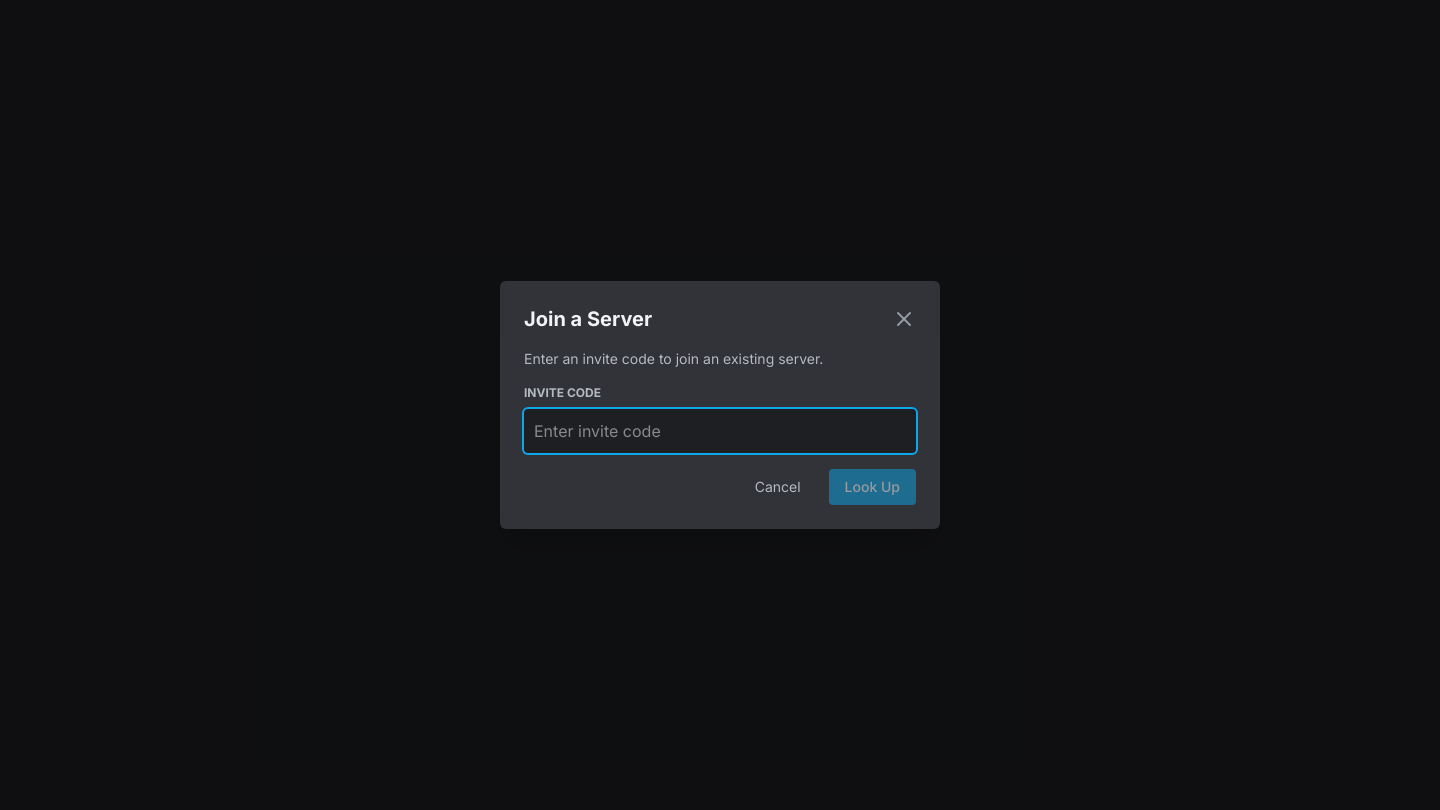
Scenario: JoinServerModal › shows singular "member" for memberCount === 1
Type "SOLO" into the field with placeholder "Enter invite code". click: coordinates (720, 431)
box: left=524, top=409, right=916, bottom=453
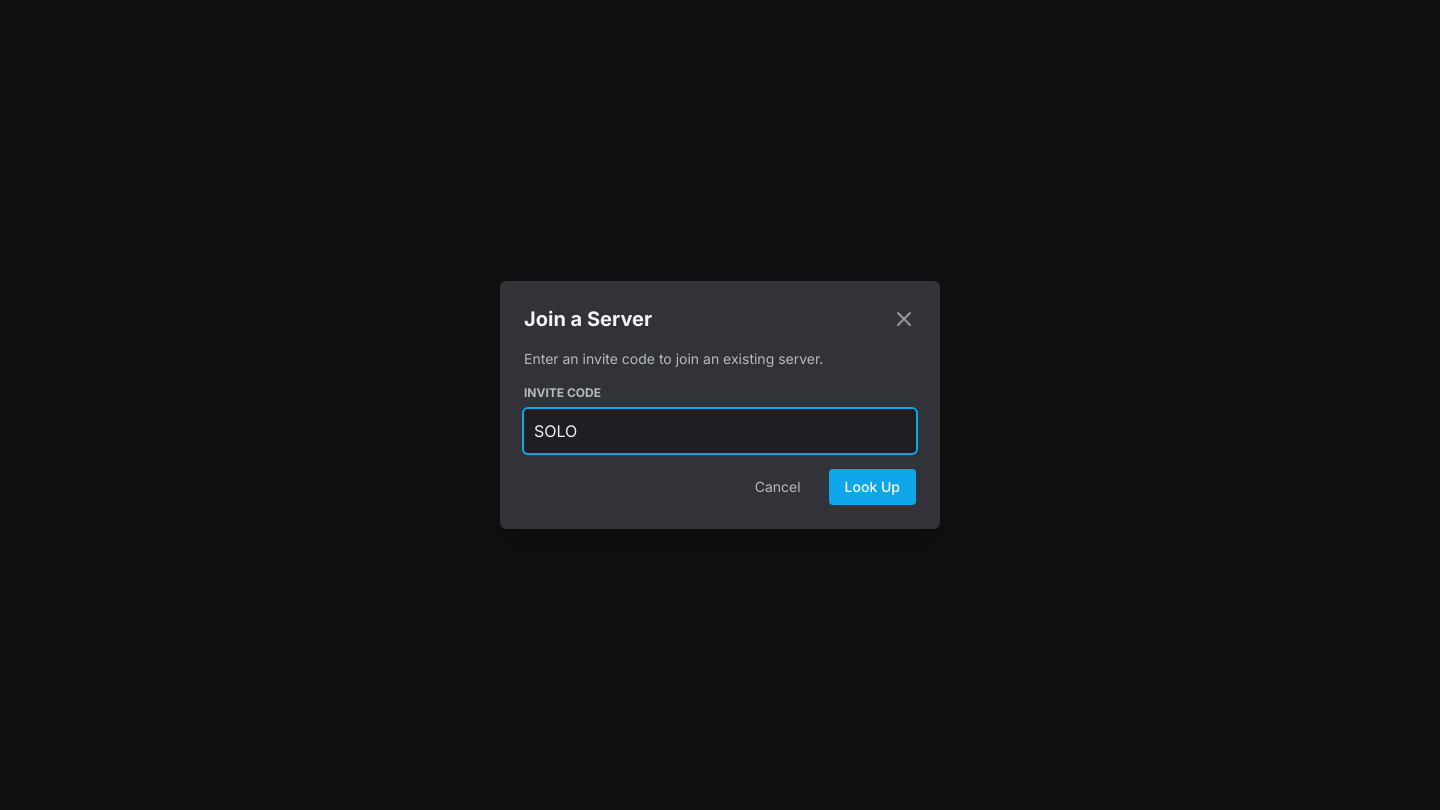
Click the button "Look Up". click: coordinates (872, 487)
box: left=829, top=469, right=916, bottom=505
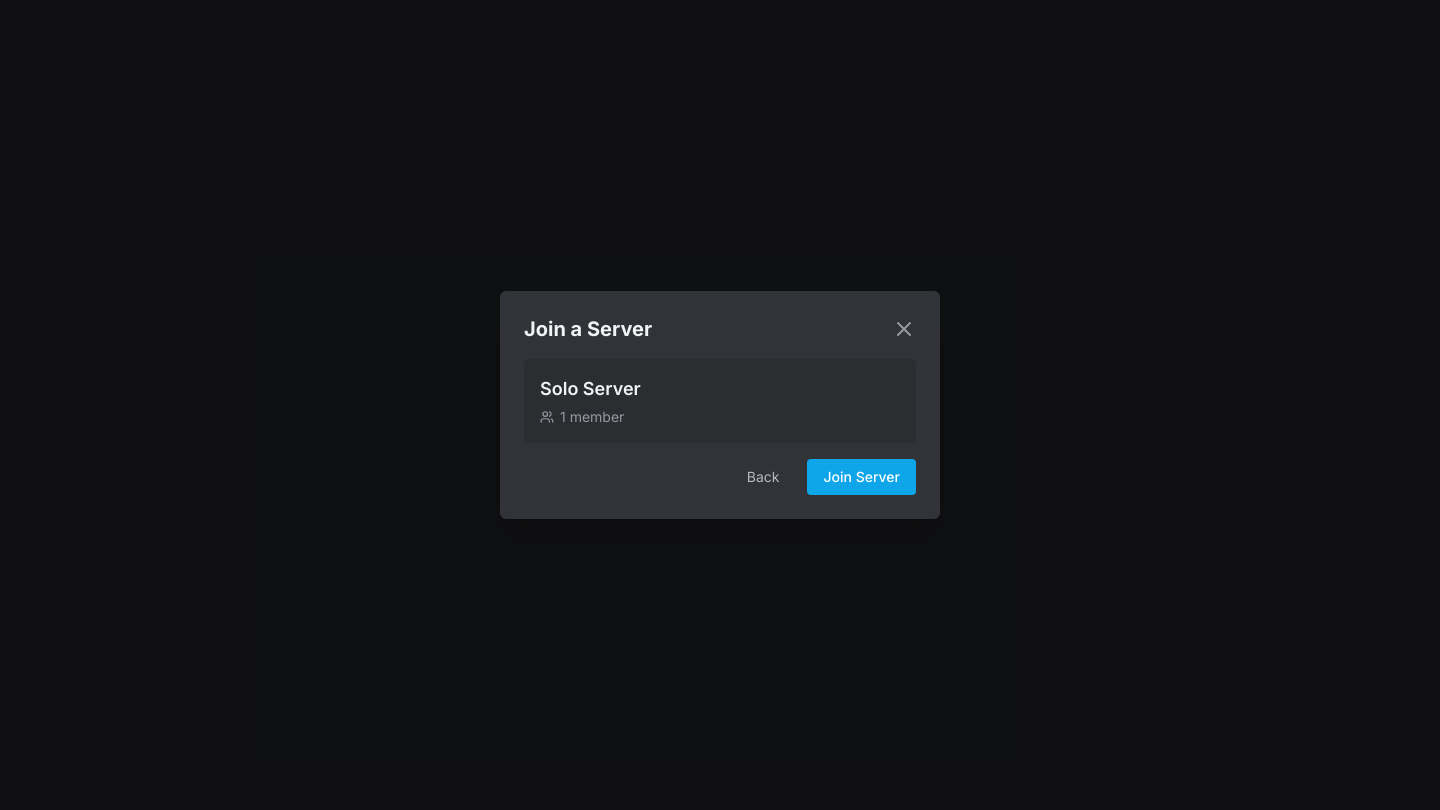
Check: the text "1 member" is shown, box left=560, top=407, right=624, bottom=427
